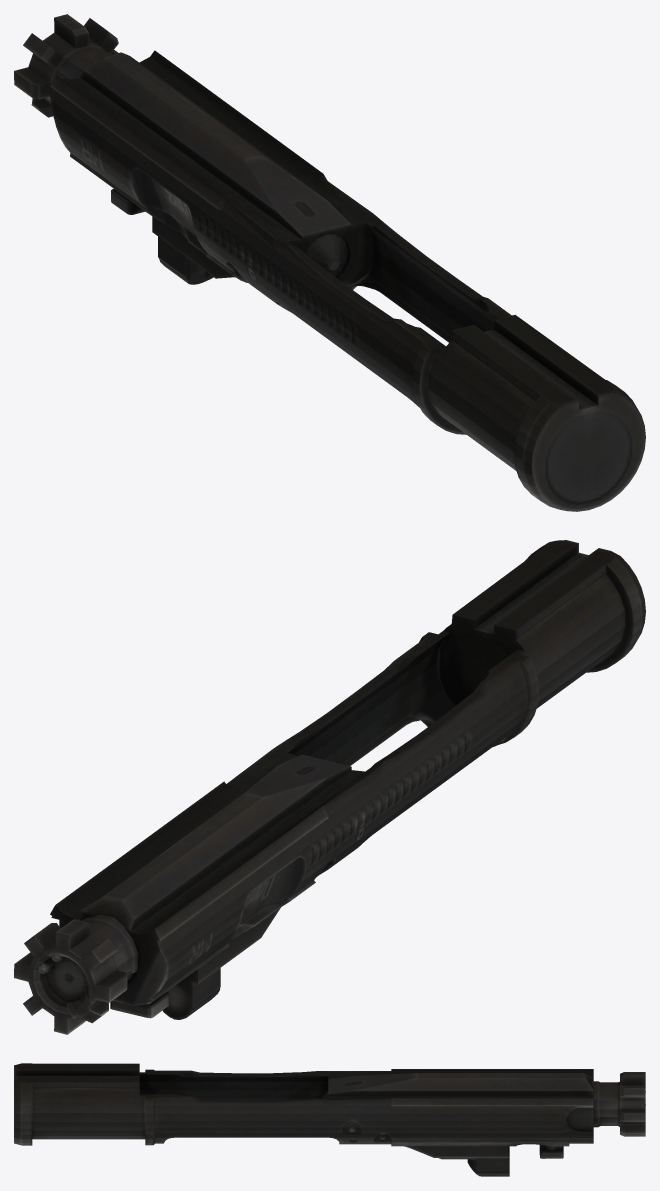
3 views of the same model, one above another, from view 1: azimuth 30°, elevation 25°; view 2: azimuth 150°, elevation 25°; view 3: azimuth 270°, elevation 25° (orthographic). The views are drawn at different scales.
Parts seen in each view (by area): view 1: TW_6176aca650224f204c1da3fb_PZ_Import; view 2: TW_6176aca650224f204c1da3fb_PZ_Import; view 3: TW_6176aca650224f204c1da3fb_PZ_Import.
Boxes of the visible parts, x1,y1,x2,y2 form: TW_6176aca650224f204c1da3fb_PZ_Import: [14, 14, 645, 511]; TW_6176aca650224f204c1da3fb_PZ_Import: [14, 540, 645, 1034]; TW_6176aca650224f204c1da3fb_PZ_Import: [14, 1063, 645, 1176].
Bounding box in the file's own units: 0.0174 × 0.1328 × 0.0238.
1 material, 1 textured.
